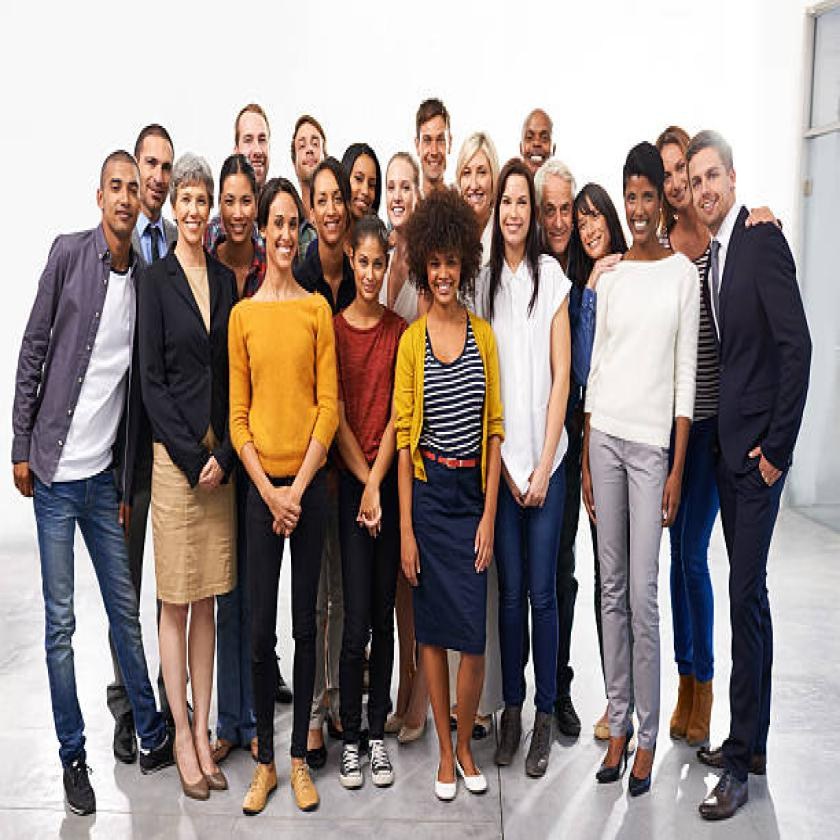Sin_casco: (396, 181, 488, 321), (681, 114, 744, 229), (346, 198, 394, 322), (94, 143, 147, 251), (490, 155, 544, 261), (257, 178, 306, 285), (456, 109, 503, 217), (619, 141, 664, 252), (304, 154, 351, 260), (172, 145, 217, 251), (409, 80, 453, 188), (229, 90, 274, 182), (217, 155, 262, 243), (385, 140, 424, 238), (538, 156, 576, 255), (656, 116, 693, 216), (132, 119, 170, 214), (345, 123, 382, 213), (574, 181, 615, 259), (514, 91, 551, 177), (289, 103, 332, 174)
